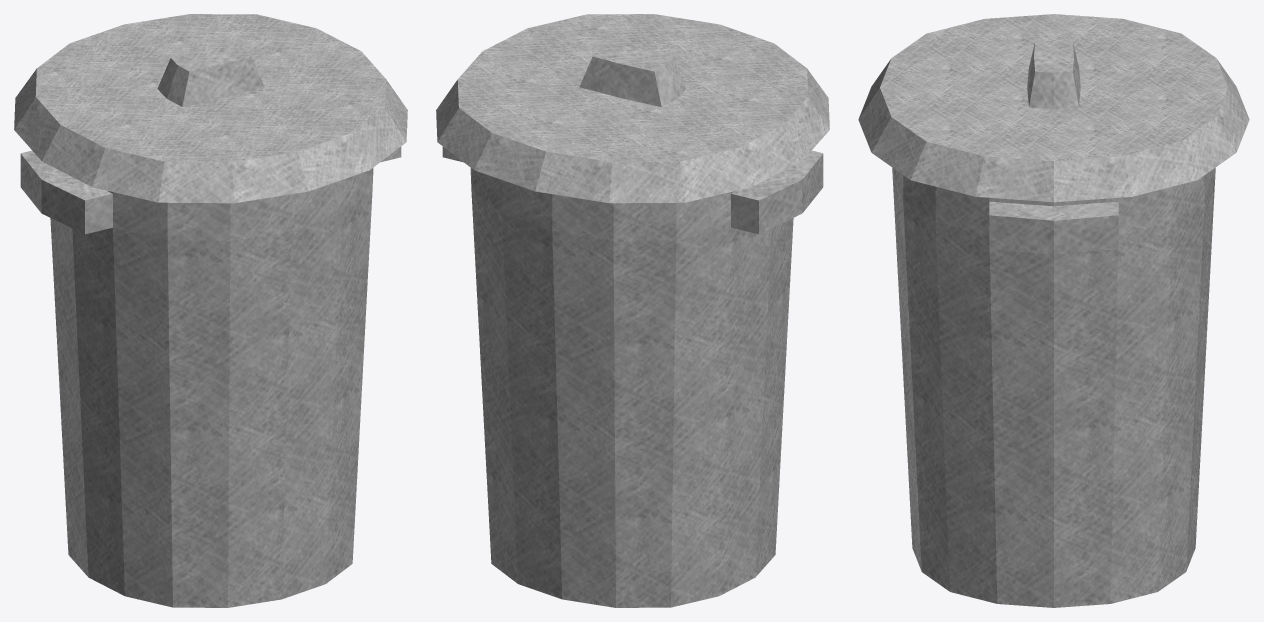
File: basurero.gltf
The picture shows the model from 3 angles, left to right: view 1: azimuth 30°, elevation 25°; view 2: azimuth 150°, elevation 25°; view 3: azimuth 270°, elevation 25°; orthographic projection.
Parts seen in each view (by area): view 1: galleda_brossa_0; view 2: galleda_brossa_0; view 3: galleda_brossa_0.
Part boxes in pixels (x1,y1,x2,y2): galleda_brossa_0: [14, 14, 407, 607]; galleda_brossa_0: [436, 14, 829, 607]; galleda_brossa_0: [858, 14, 1249, 607].
Size of the model in its own units: 0.933 by 1.29 by 0.9312.
Materials: 1 (1 with a texture image).
